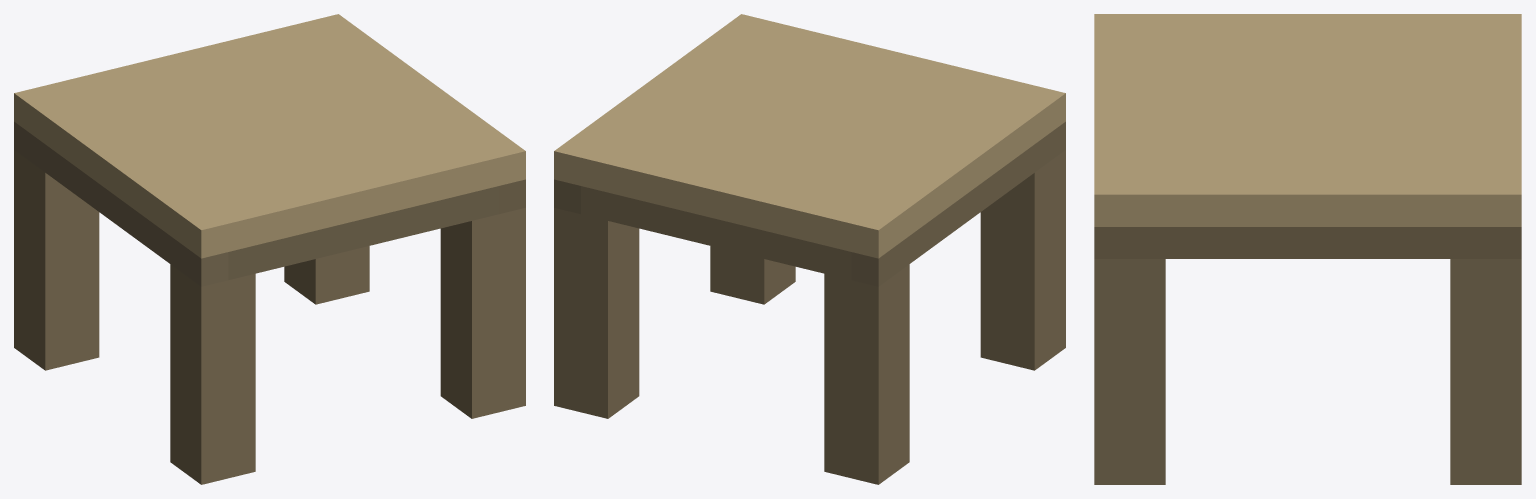
The model's file is especiero_desgastada_01.glb.
3 views of the same model, side by side, from view 1: azimuth 30°, elevation 25°; view 2: azimuth 150°, elevation 25°; view 3: azimuth 270°, elevation 25° (orthographic). The views are drawn at different scales.
Parts seen in each view (by area): view 1: especiero_desgastada; view 2: especiero_desgastada; view 3: especiero_desgastada.
Part boxes in pixels (box(x1,y1,x2,y2)): especiero_desgastada: box(14, 14, 525, 484); especiero_desgastada: box(554, 14, 1065, 484); especiero_desgastada: box(1094, 14, 1521, 484).
Size of the model in its own units: 1 by 0.75 by 1.
